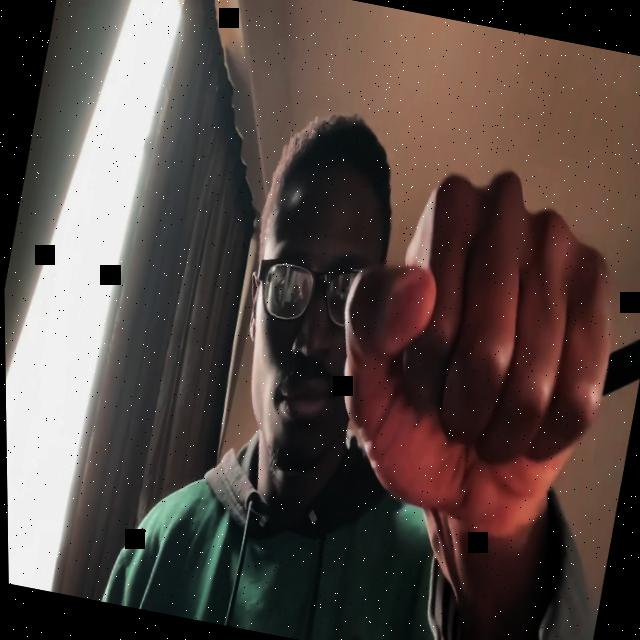Rock: (301, 143, 640, 560)
